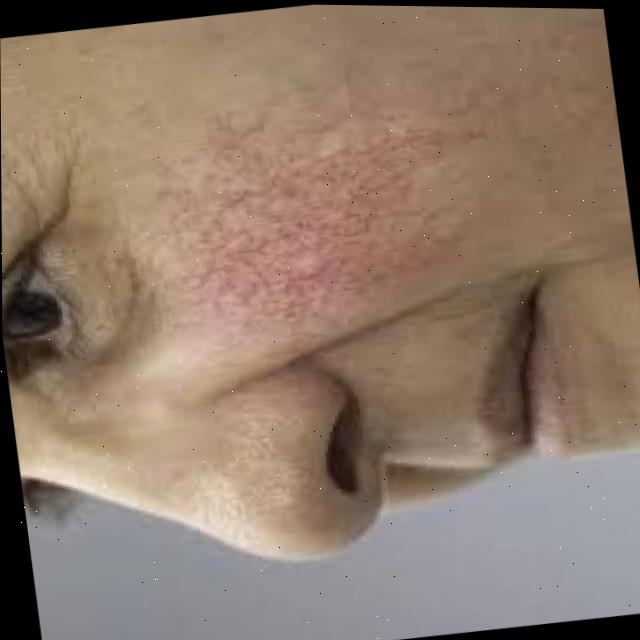Rosacea: (181, 101, 489, 322)
